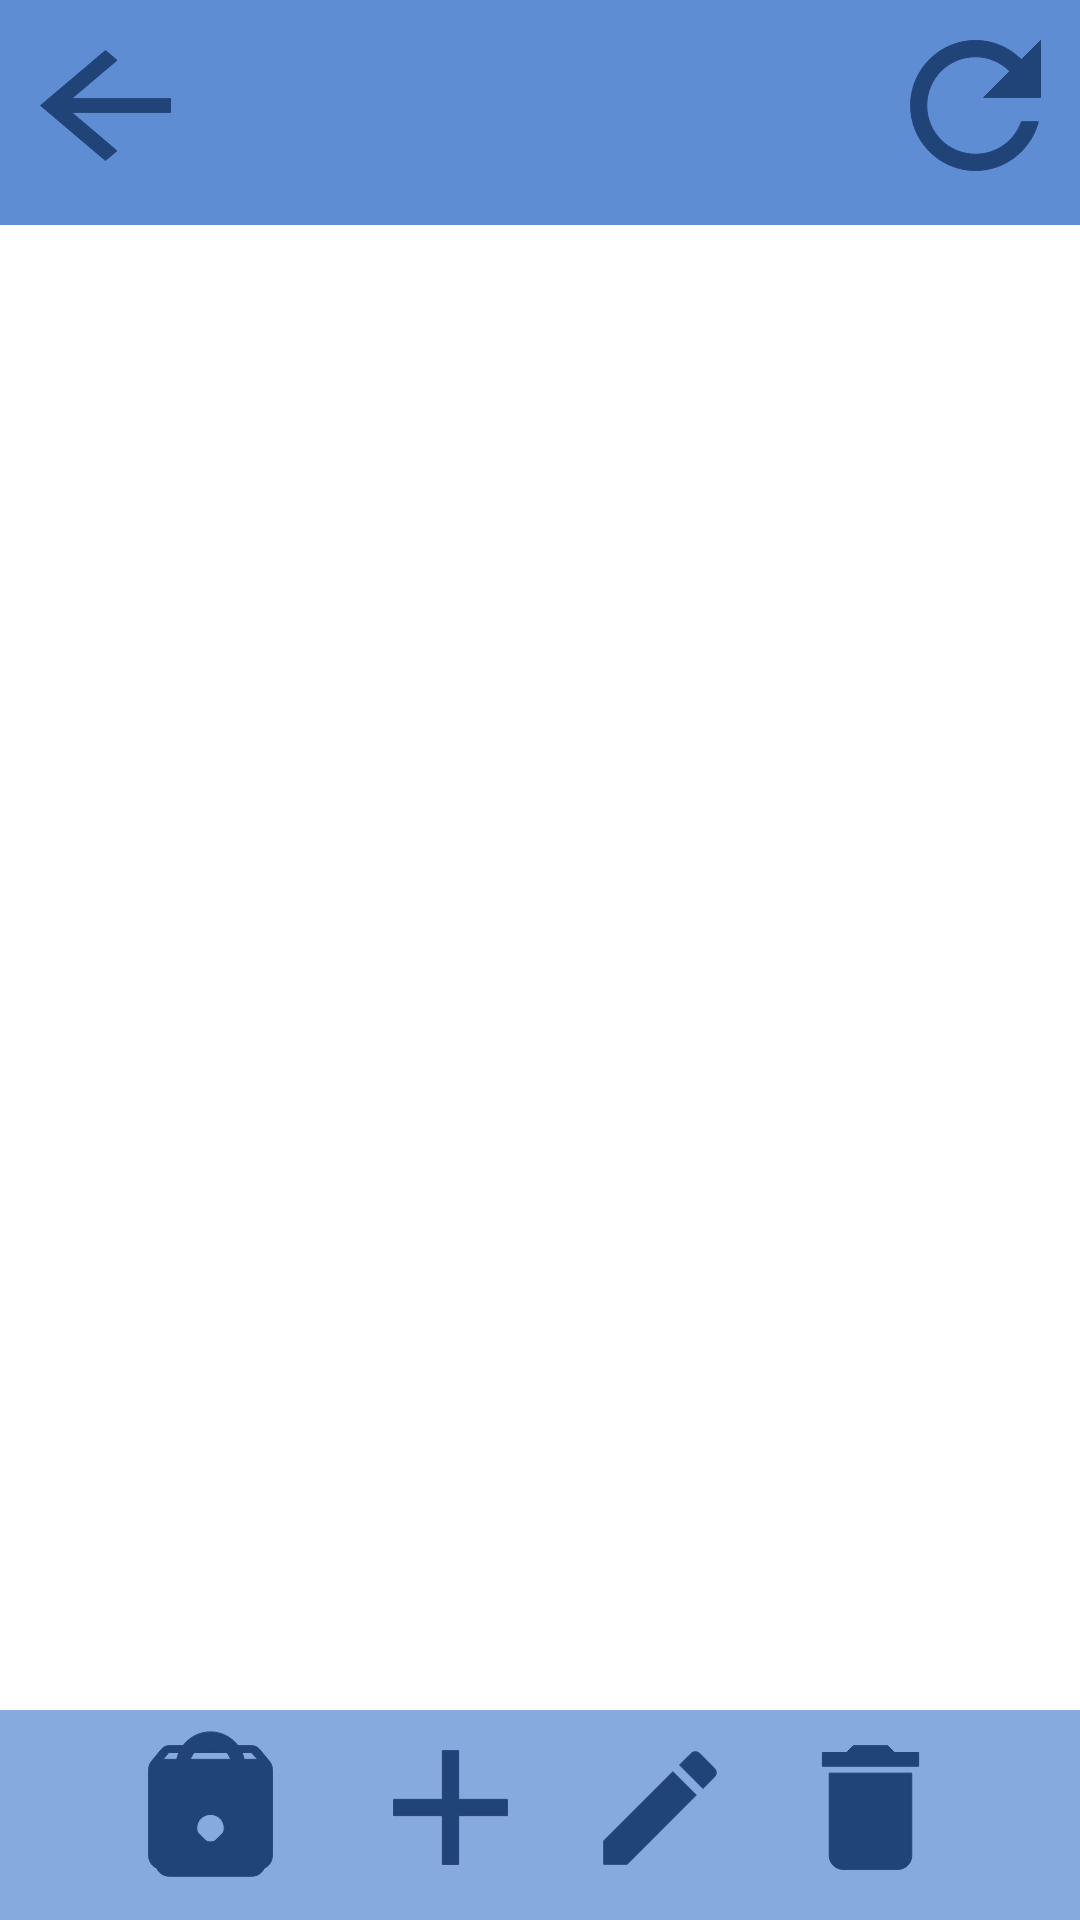

Named icons in this screenshot (1080px×1920px) and their bounding boxes, (x1, y1, x2, y2):
add: (393, 1750, 508, 1865)
arrow back: (40, 50, 171, 161)
delete: (822, 1745, 919, 1870)
mode edit: (603, 1751, 717, 1865)
refresh: (910, 40, 1041, 171)
